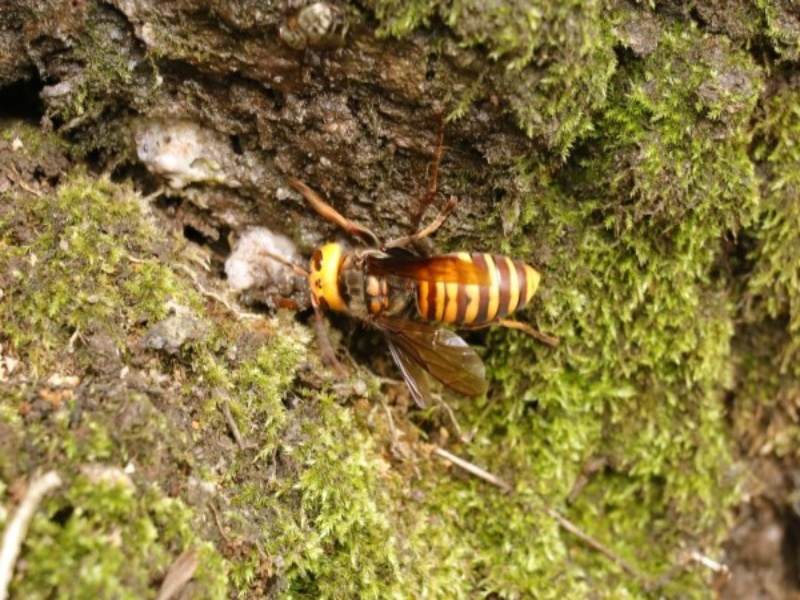asian_giant_hornet: (265, 172, 545, 390)
